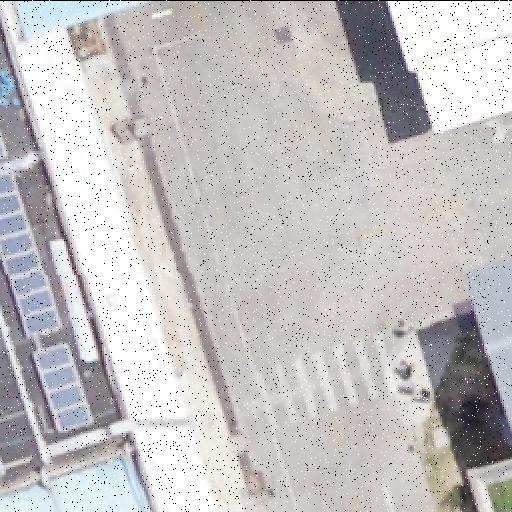solar-panel: (0, 170, 64, 338), (31, 338, 97, 434), (0, 134, 8, 158), (1, 458, 7, 474)
